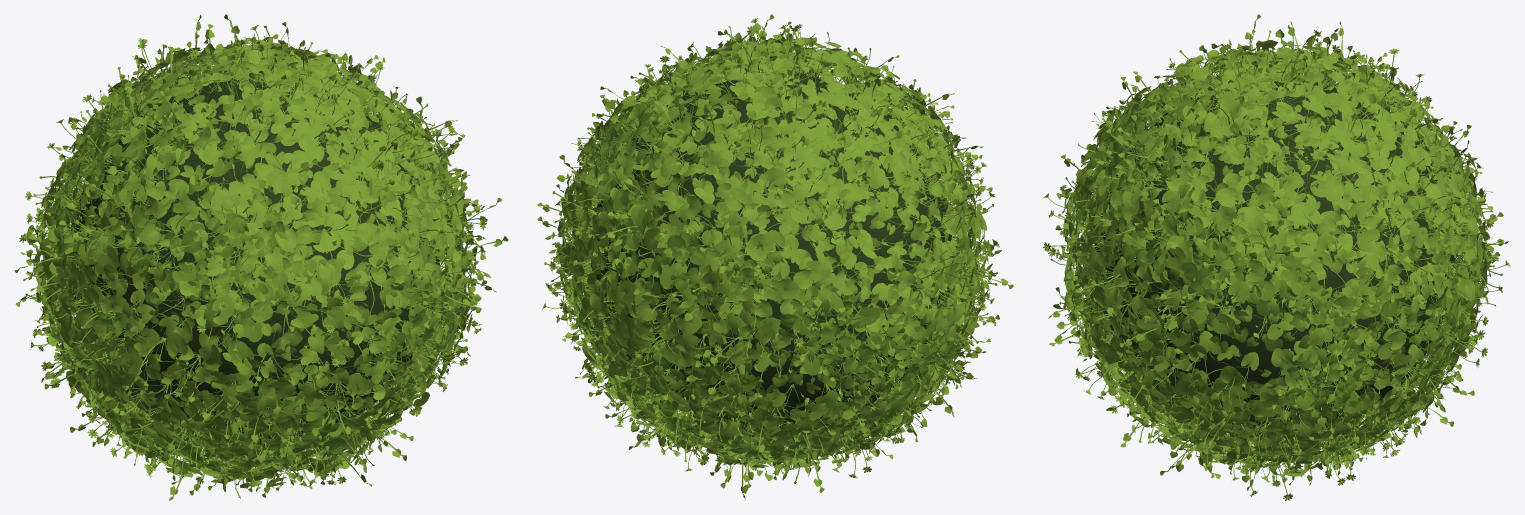
Rendered from celandine_02_1k.fbx.
3 views of the same model, side by side, from view 1: azimuth 30°, elevation 25°; view 2: azimuth 150°, elevation 25°; view 3: azimuth 270°, elevation 25° (orthographic). The views are drawn at different scales.
Parts seen in each view (by area): view 1: celandine_01_particles, celandine_01_particles|celandine_01_b_LOD0|Dupli|371, celandine_01_particles|celandine_01_b_LOD0|Dupli|408, celandine_01_particles|celandine_01_b_LOD0|Dupli|393, celandine_01_particles|celandine_01_b_LOD0|Dupli|434, celandine_01_particles|celandine_01_b_LOD0|Dupli|488, celandine_01_particles|celandine_01_b_LOD0|Dupli|458, celandine_01_particles|celandine_01_b_LOD0|Dupli|446, celandine_01_particles|celandine_01_b_LOD0|Dupli|449, celandine_01_particles|celandine_01_b_LOD0|Dupli|435, celandine_01_particles|celandine_01_b_LOD0|Dupli|500, celandine_01_particles|celandine_01_b_LOD0|Dupli|421 (+117 smaller); view 2: celandine_01_particles, celandine_01_particles|celandine_01_b_LOD0|Dupli|693, celandine_01_particles|celandine_01_b_LOD0|Dupli|718, celandine_01_particles|celandine_01_b_LOD0|Dupli|682, celandine_01_particles|celandine_01_b_LOD0|Dupli|670, celandine_01_particles|celandine_01_b_LOD0|Dupli|4, celandine_01_particles|celandine_01_b_LOD0|Dupli|733, celandine_01_particles|celandine_01_b_LOD0|Dupli|706, celandine_01_particles|celandine_01_a_LOD0|Dupli|599, celandine_01_particles|celandine_01_c_LOD0|Dupli|710, celandine_01_particles|celandine_01_a_LOD0|Dupli|14, celandine_01_particles|celandine_01_b_LOD0|Dupli|19 (+113 smaller); view 3: celandine_01_particles, celandine_01_particles|celandine_01_b_LOD0|Dupli|198, celandine_01_particles|celandine_01_b_LOD0|Dupli|150, celandine_01_particles|celandine_01_b_LOD0|Dupli|215, celandine_01_particles|celandine_01_b_LOD0|Dupli|147, celandine_01_particles|celandine_01_b_LOD0|Dupli|266, celandine_01_particles|celandine_01_b_LOD0|Dupli|226, celandine_01_particles|celandine_01_b_LOD0|Dupli|107, celandine_01_particles|celandine_01_a_LOD0|Dupli|249, celandine_01_particles|celandine_01_a_LOD0|Dupli|248, celandine_01_particles|celandine_01_b_LOD0|Dupli|81, celandine_01_particles|celandine_01_c_LOD0|Dupli|281 (+108 smaller).
Part boxes in pixels (left/top/right/bottom): celandine_01_particles: left=71, top=78, right=439, bottom=445; celandine_01_particles|celandine_01_b_LOD0|Dupli|371: left=296, top=176, right=385, bottom=289; celandine_01_particles|celandine_01_b_LOD0|Dupli|408: left=237, top=255, right=346, bottom=346; celandine_01_particles|celandine_01_b_LOD0|Dupli|393: left=242, top=177, right=346, bottom=284; celandine_01_particles|celandine_01_b_LOD0|Dupli|434: left=210, top=182, right=316, bottom=288; celandine_01_particles|celandine_01_b_LOD0|Dupli|488: left=129, top=182, right=203, bottom=282; celandine_01_particles|celandine_01_b_LOD0|Dupli|458: left=183, top=341, right=296, bottom=421; celandine_01_particles|celandine_01_b_LOD0|Dupli|446: left=181, top=187, right=271, bottom=286; celandine_01_particles|celandine_01_b_LOD0|Dupli|449: left=195, top=231, right=273, bottom=328; celandine_01_particles|celandine_01_b_LOD0|Dupli|435: left=187, top=108, right=266, bottom=194; celandine_01_particles|celandine_01_b_LOD0|Dupli|500: left=80, top=294, right=155, bottom=387; celandine_01_particles|celandine_01_b_LOD0|Dupli|421: left=222, top=99, right=313, bottom=190; celandine_01_particles: left=592, top=72, right=951, bottom=431; celandine_01_particles|celandine_01_b_LOD0|Dupli|693: left=714, top=128, right=817, bottom=227; celandine_01_particles|celandine_01_b_LOD0|Dupli|718: left=702, top=188, right=798, bottom=293; celandine_01_particles|celandine_01_b_LOD0|Dupli|682: left=733, top=230, right=830, bottom=324; celandine_01_particles|celandine_01_b_LOD0|Dupli|670: left=757, top=248, right=857, bottom=335; celandine_01_particles|celandine_01_b_LOD0|Dupli|4: left=627, top=263, right=699, bottom=364; celandine_01_particles|celandine_01_b_LOD0|Dupli|733: left=667, top=235, right=742, bottom=333; celandine_01_particles|celandine_01_b_LOD0|Dupli|706: left=709, top=91, right=813, bottom=169; celandine_01_particles|celandine_01_a_LOD0|Dupli|599: left=827, top=93, right=910, bottom=188; celandine_01_particles|celandine_01_c_LOD0|Dupli|710: left=719, top=120, right=788, bottom=194; celandine_01_particles|celandine_01_a_LOD0|Dupli|14: left=660, top=99, right=754, bottom=179; celandine_01_particles|celandine_01_b_LOD0|Dupli|19: left=646, top=147, right=742, bottom=236; celandine_01_particles: left=1094, top=78, right=1454, bottom=437; celandine_01_particles|celandine_01_b_LOD0|Dupli|198: left=1195, top=208, right=1307, bottom=304; celandine_01_particles|celandine_01_b_LOD0|Dupli|150: left=1289, top=250, right=1374, bottom=348; celandine_01_particles|celandine_01_b_LOD0|Dupli|215: left=1175, top=330, right=1275, bottom=421; celandine_01_particles|celandine_01_b_LOD0|Dupli|147: left=1264, top=202, right=1359, bottom=303; celandine_01_particles|celandine_01_b_LOD0|Dupli|266: left=1174, top=79, right=1263, bottom=159; celandine_01_particles|celandine_01_b_LOD0|Dupli|226: left=1182, top=172, right=1285, bottom=259; celandine_01_particles|celandine_01_b_LOD0|Dupli|107: left=1357, top=202, right=1433, bottom=300; celandine_01_particles|celandine_01_a_LOD0|Dupli|249: left=1130, top=291, right=1208, bottom=367; celandine_01_particles|celandine_01_a_LOD0|Dupli|248: left=1140, top=269, right=1235, bottom=343; celandine_01_particles|celandine_01_b_LOD0|Dupli|81: left=1321, top=92, right=1391, bottom=175; celandine_01_particles|celandine_01_c_LOD0|Dupli|281: left=1125, top=140, right=1193, bottom=205.
Size of the model in its own units: 91.27 by 92.43 by 90.67.
